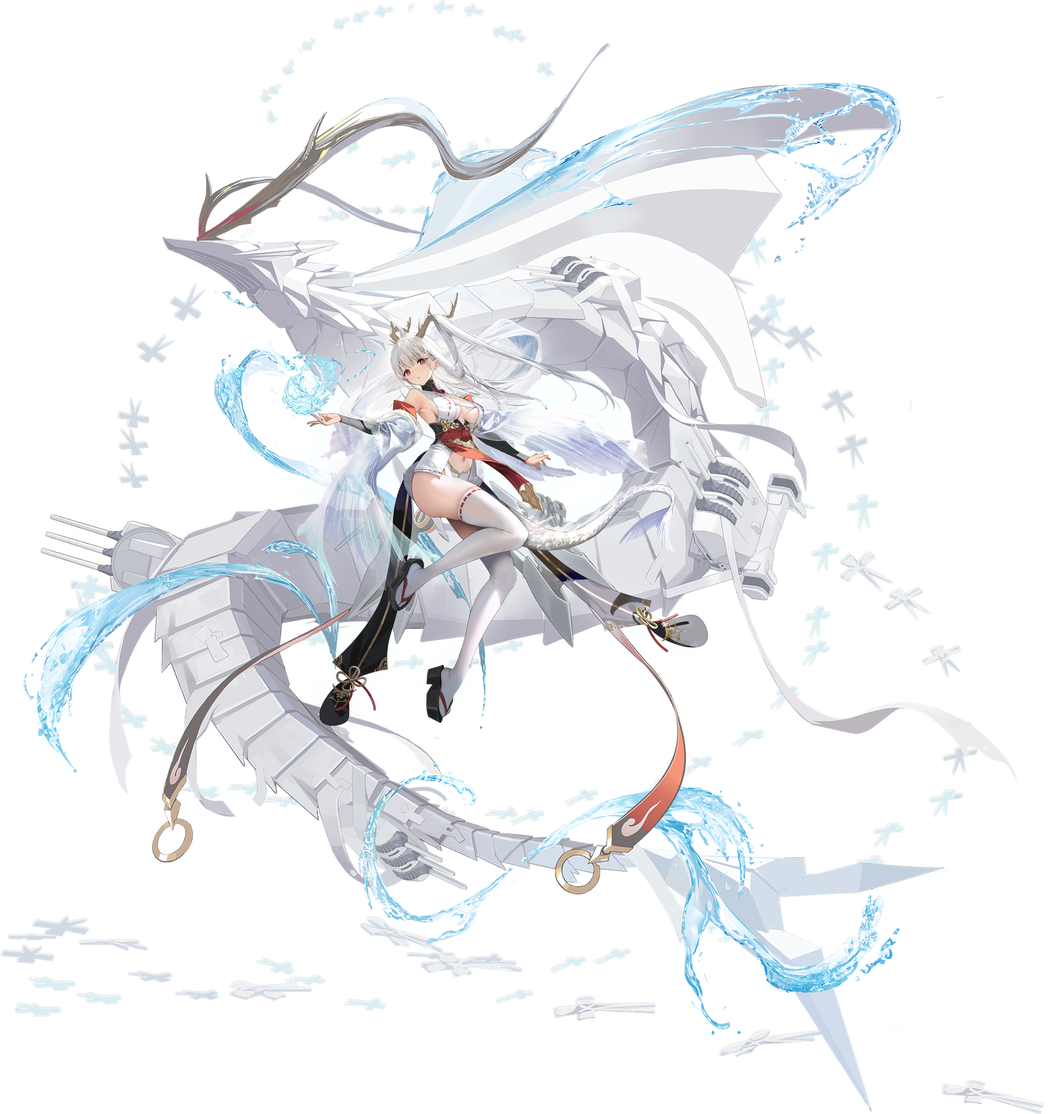person: (1, 0, 1043, 1113)
